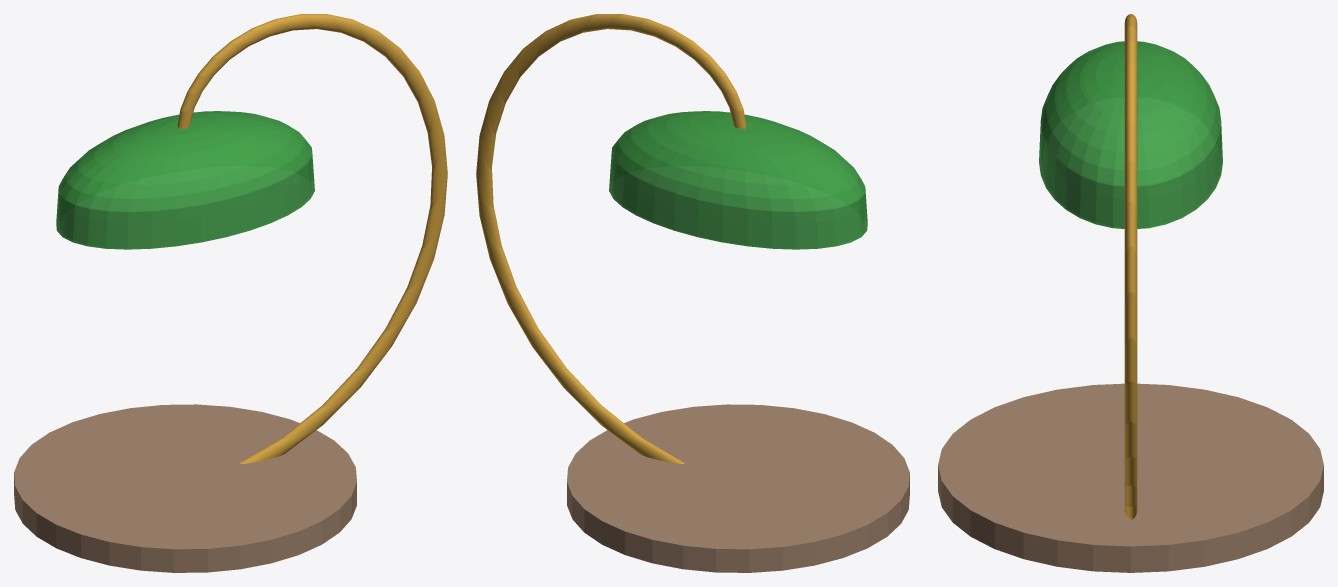
File: DeskLamp.fbx
3 views of the same model, side by side, from view 1: azimuth 30°, elevation 25°; view 2: azimuth 150°, elevation 25°; view 3: azimuth 270°, elevation 25° (orthographic). The views are drawn at different scales.
Visible parts, largest first — view 1: Circle, Sphere, Cylinder; view 2: Circle, Sphere, Cylinder; view 3: Circle, Sphere, Cylinder.
Part boxes in pixels (bbox=[...]): Circle: bbox=[14, 404, 356, 572]; Sphere: bbox=[56, 111, 314, 249]; Cylinder: bbox=[177, 14, 447, 463]; Circle: bbox=[567, 404, 909, 572]; Sphere: bbox=[609, 111, 867, 249]; Cylinder: bbox=[476, 14, 746, 463]; Circle: bbox=[938, 383, 1323, 572]; Sphere: bbox=[1039, 41, 1222, 228]; Cylinder: bbox=[1124, 14, 1137, 519].
Size of the model in its own units: 578 by 618 by 419.
